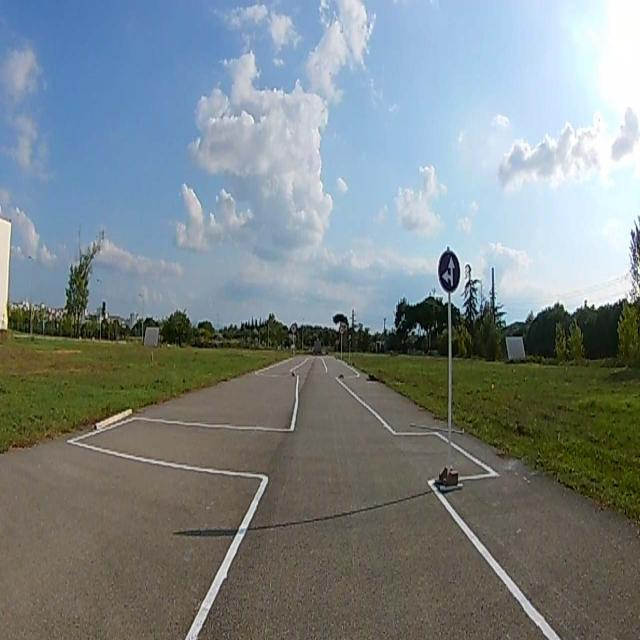ilerisol: (438, 249, 459, 291)
